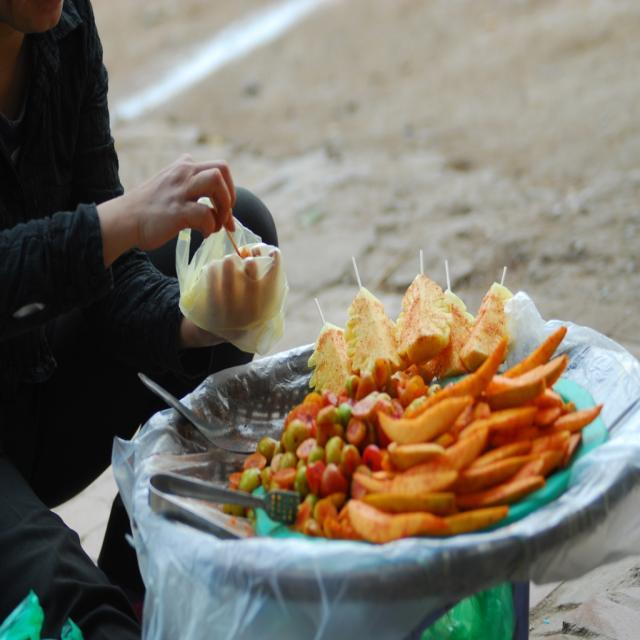French fries: (160, 297, 614, 583)
